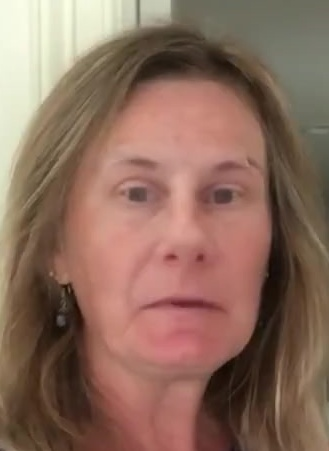eb_f: (100, 145, 271, 220)
